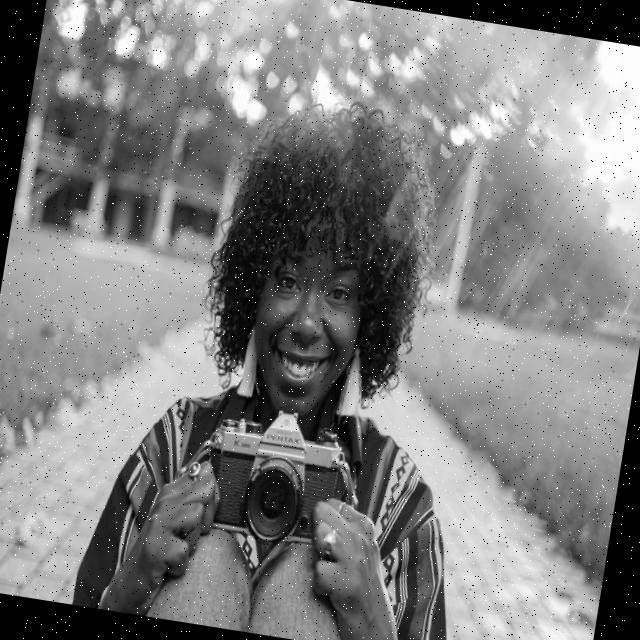Happiness: (239, 210, 377, 424)
